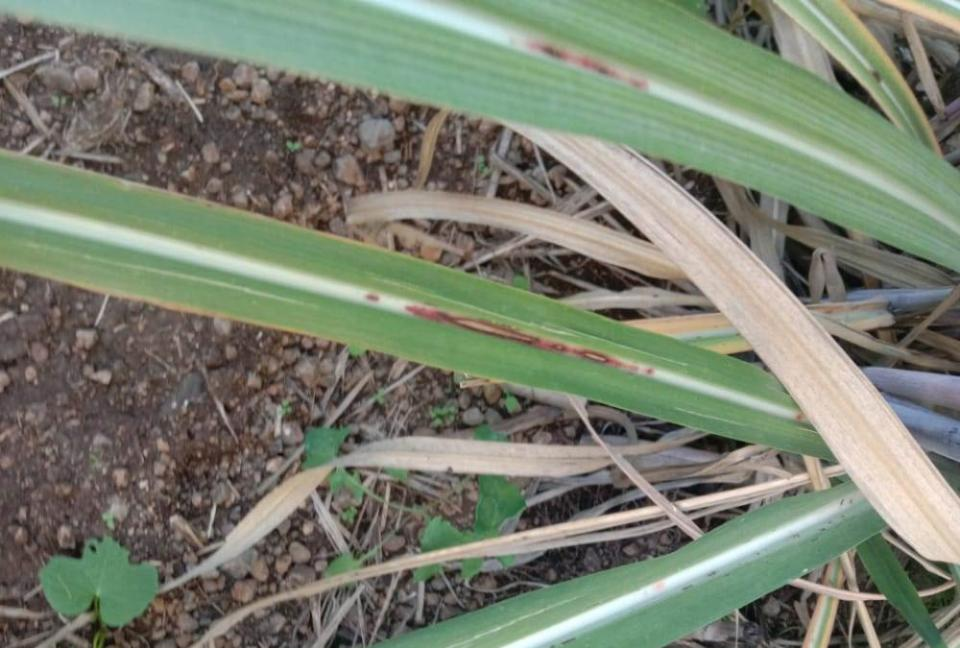RedRot: (403, 303, 657, 377), (522, 41, 651, 92), (362, 293, 381, 305)
